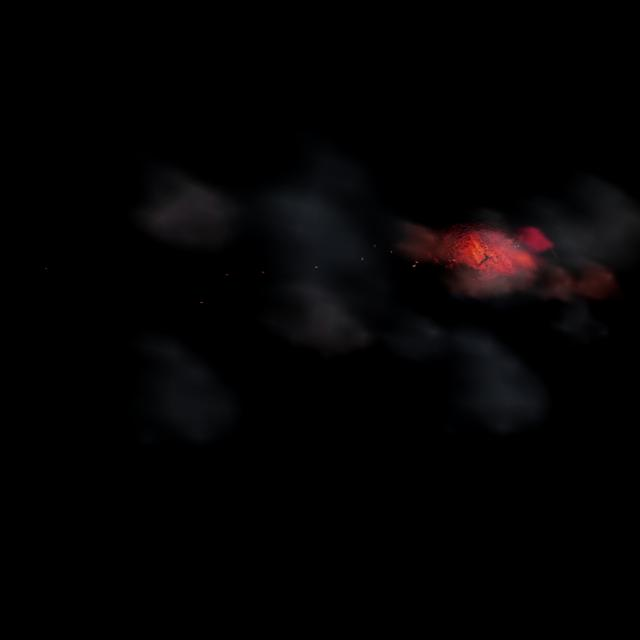fire: (440, 206, 555, 310)
smoke: (29, 57, 640, 583), (72, 307, 274, 473)
